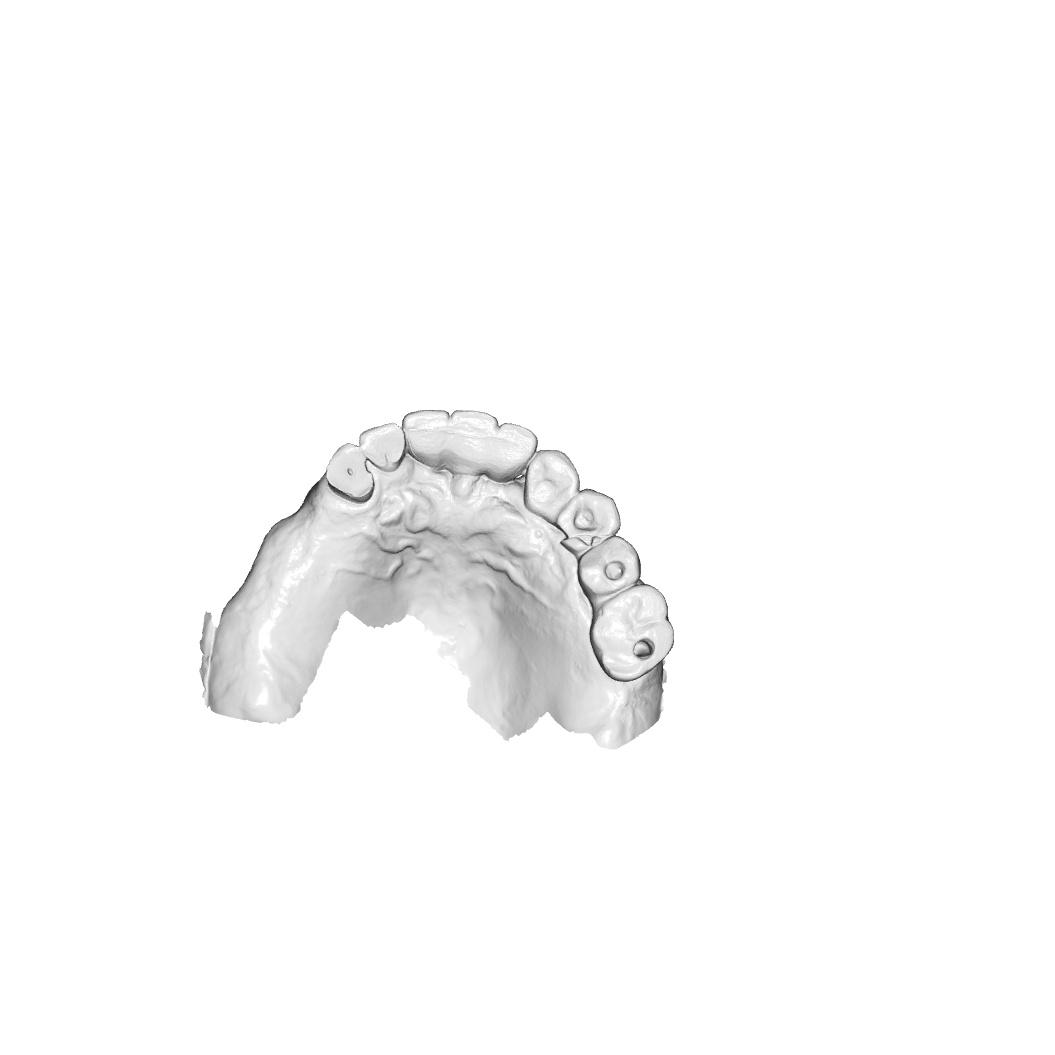canine: (522, 449, 582, 520), (324, 441, 376, 503)
incisor: (449, 409, 499, 478), (400, 408, 452, 472), (488, 422, 539, 485), (358, 421, 407, 474)
molar: (588, 582, 676, 683)
premolar: (555, 487, 622, 555), (576, 534, 643, 599)
